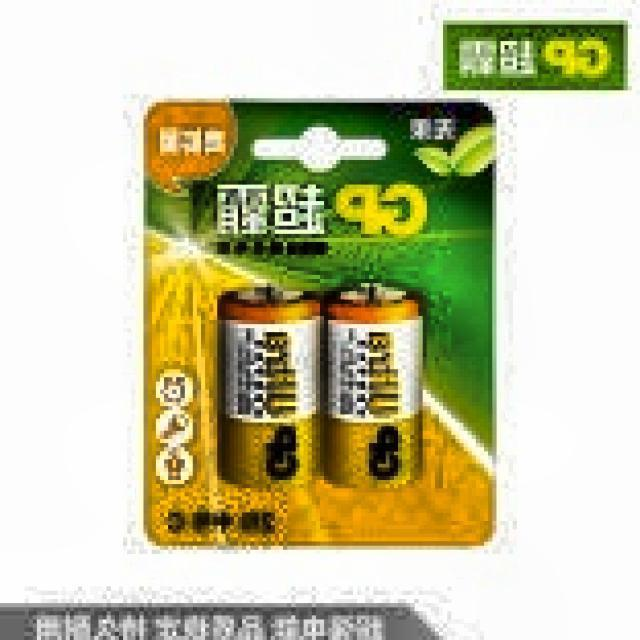battery: (325, 286, 423, 484), (220, 293, 321, 483)
